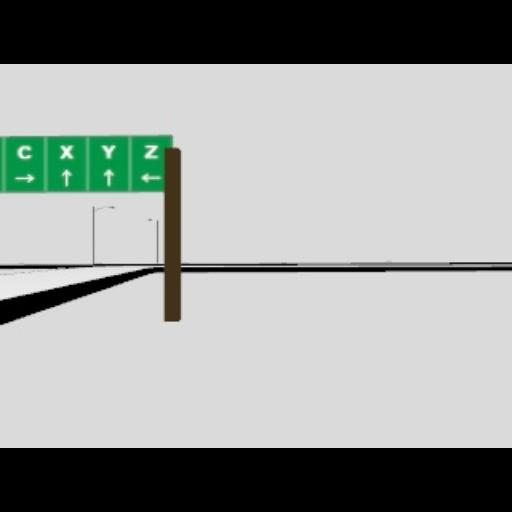C: (16, 144, 32, 160)
Left: (139, 173, 161, 183)
Right: (13, 173, 35, 183)
Straight: (102, 168, 114, 186), (61, 168, 71, 186)
X: (59, 144, 73, 158)
Y: (99, 144, 115, 158)
Z: (142, 144, 158, 158)
